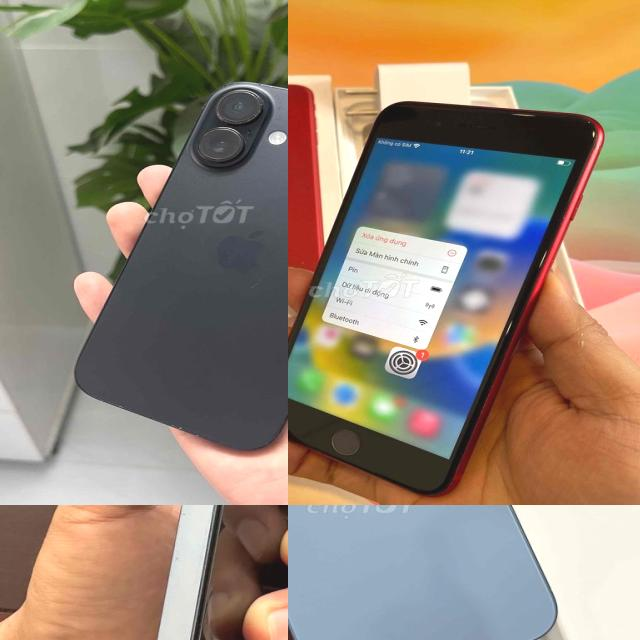gen_12_13: (139, 505, 288, 640)
gen_16: (76, 82, 288, 449)
gen_17: (288, 505, 581, 640)
gen_7_8: (288, 99, 603, 481)
